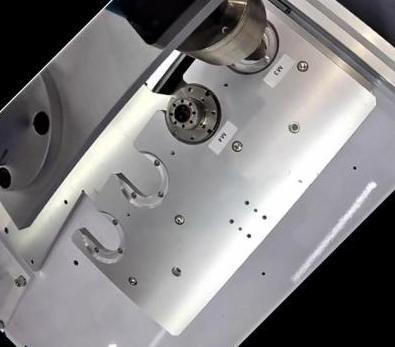hole: (282, 117, 303, 138), (168, 262, 183, 279)
